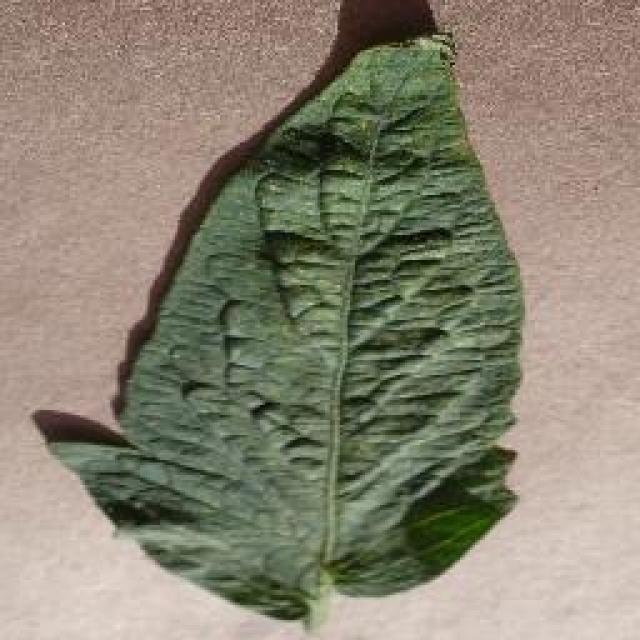Tomato mosaic virus leaf: (44, 22, 524, 622)
